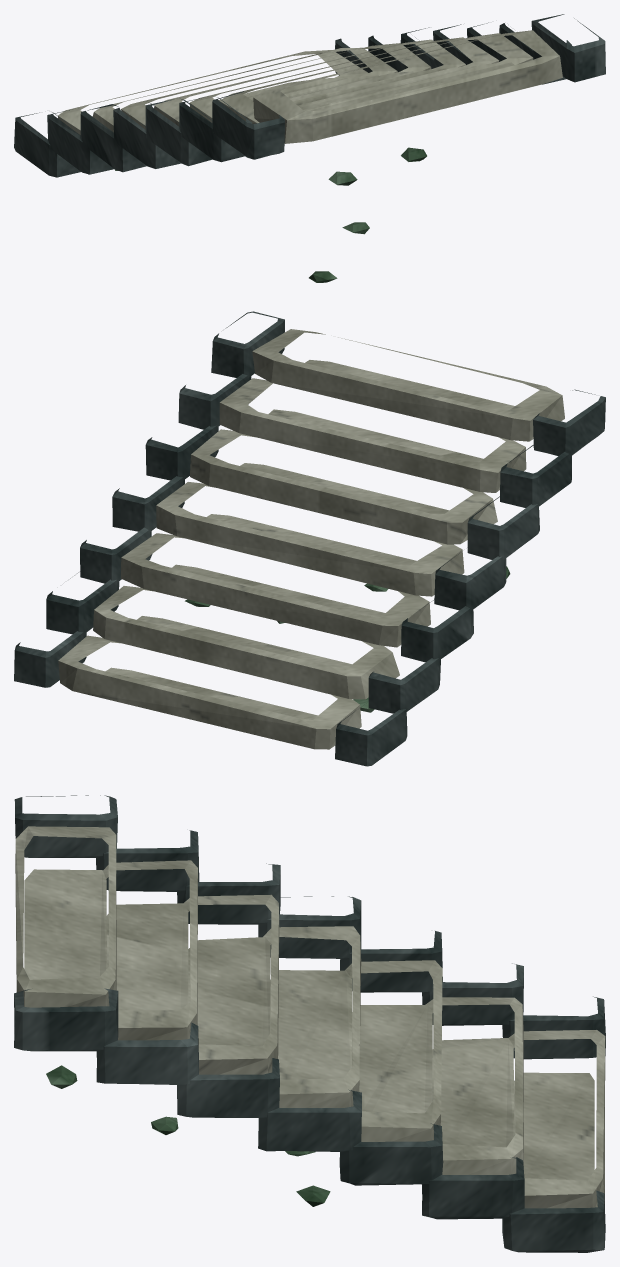
The model's file is 0375_stairs_25.glb.
The picture shows the model from 3 angles, top to bottom: view 1: azimuth 30°, elevation 25°; view 2: azimuth 150°, elevation 25°; view 3: azimuth 270°, elevation 25°; orthographic projection. The views are drawn at different scales.
Parts seen in each view (by area): view 1: stone_light, stone_dark, moss; view 2: stone_light, stone_dark; view 3: stone_light, stone_dark, moss.
Boxes of the visible parts, x1,y1,x2,y2 form: stone_light: [58, 30, 562, 143]; stone_dark: [14, 14, 605, 177]; moss: [115, 147, 426, 282]; stone_light: [58, 329, 564, 749]; stone_dark: [14, 311, 605, 766]; stone_light: [15, 826, 605, 1208]; stone_dark: [14, 795, 605, 1252]; moss: [46, 1065, 330, 1206].
Bounding box in the file's own units: 2.76 × 1.47 × 3.2.
3 materials, 3 textured.
